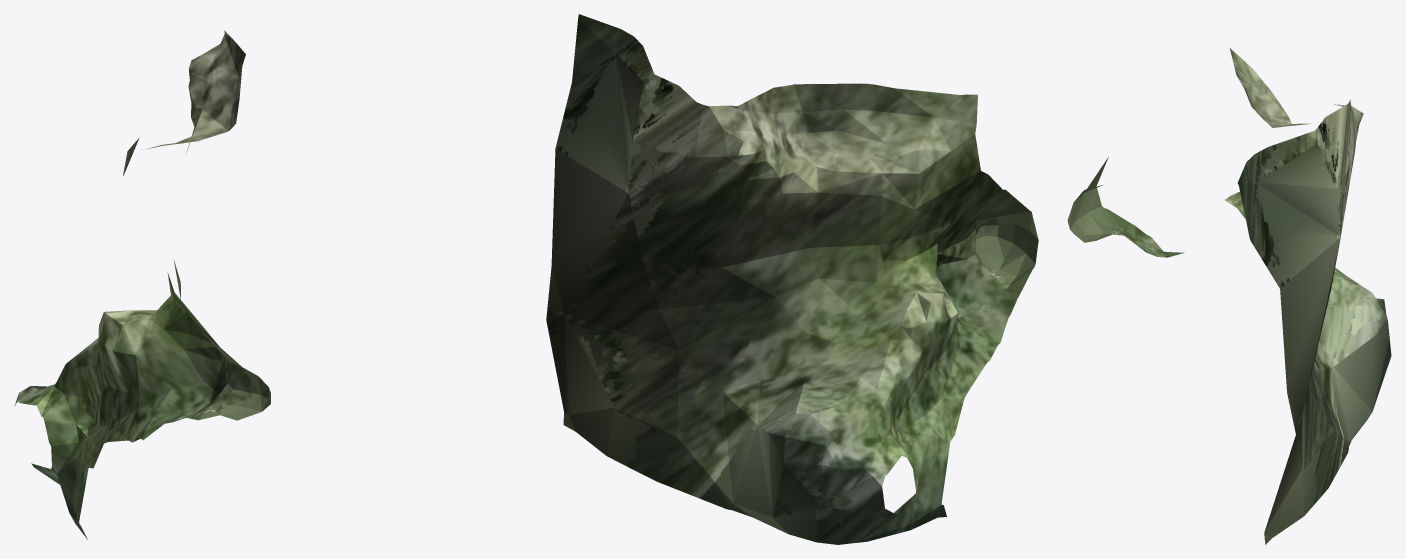
3 renders of one model, left to right at view 1: azimuth 30°, elevation 25°; view 2: azimuth 150°, elevation 25°; view 3: azimuth 270°, elevation 25°, orthographic. The views are drawn at different scales.
Bounding box in the file's own units: 2.95 × 2.95 × 2.39.
Materials: 4 (4 with a texture image).
